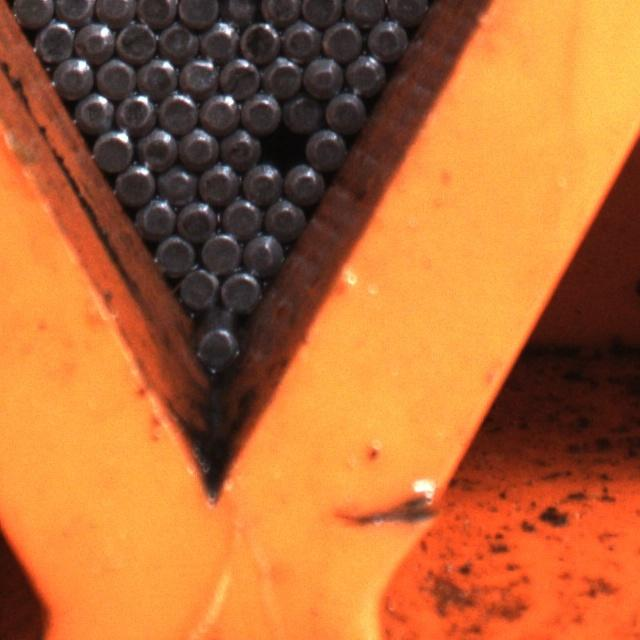tool: (192, 322, 239, 369), (174, 265, 217, 308), (344, 50, 386, 92), (113, 160, 155, 202), (220, 269, 262, 311), (115, 87, 156, 129), (198, 229, 240, 270), (304, 126, 345, 168), (366, 15, 408, 56), (153, 233, 195, 274), (241, 158, 282, 199), (240, 89, 281, 130), (176, 124, 217, 165), (156, 89, 197, 130), (302, 52, 342, 94), (197, 160, 239, 200), (175, 197, 217, 237), (220, 124, 260, 166), (322, 16, 362, 57), (198, 89, 238, 130), (177, 51, 217, 92), (95, 53, 135, 94), (221, 194, 262, 234), (323, 89, 363, 130), (134, 124, 175, 164), (91, 126, 131, 167), (242, 227, 283, 267), (264, 195, 306, 234), (74, 17, 114, 57), (283, 161, 323, 201), (116, 18, 156, 58), (158, 19, 198, 59), (281, 92, 321, 132), (134, 196, 174, 236), (135, 51, 175, 91), (32, 18, 72, 58), (219, 42, 259, 82), (280, 18, 321, 57), (53, 52, 92, 93), (262, 52, 300, 94), (73, 91, 112, 130), (157, 163, 196, 202), (197, 18, 236, 56), (243, 13, 281, 52), (136, 0, 177, 25), (177, 0, 218, 24), (12, 0, 53, 23), (220, 0, 259, 23), (260, 0, 300, 22), (301, 0, 342, 21), (387, 0, 428, 21), (95, 0, 135, 21), (56, 0, 96, 21), (344, 0, 384, 20)
